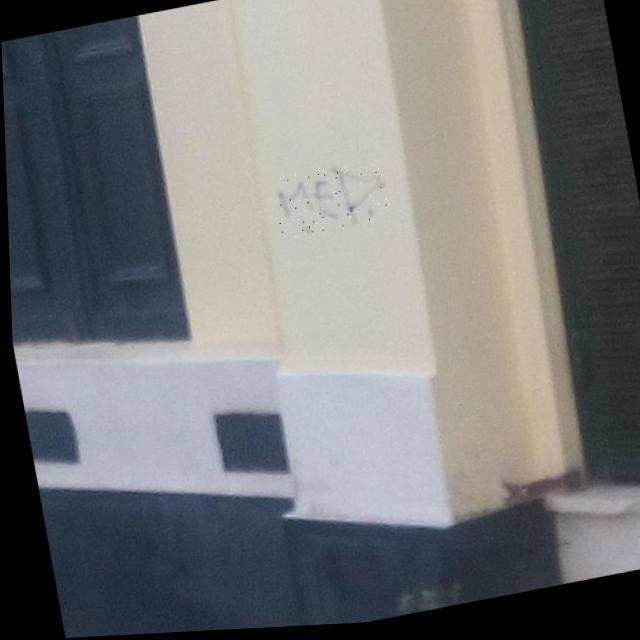-: (270, 160, 391, 244)
